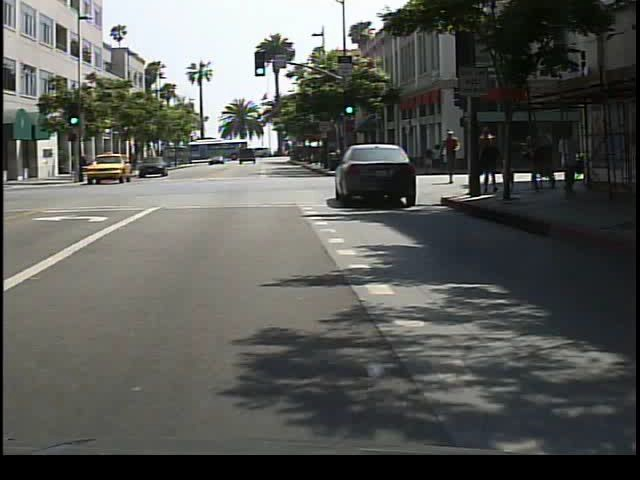person: (442, 128, 466, 189)
